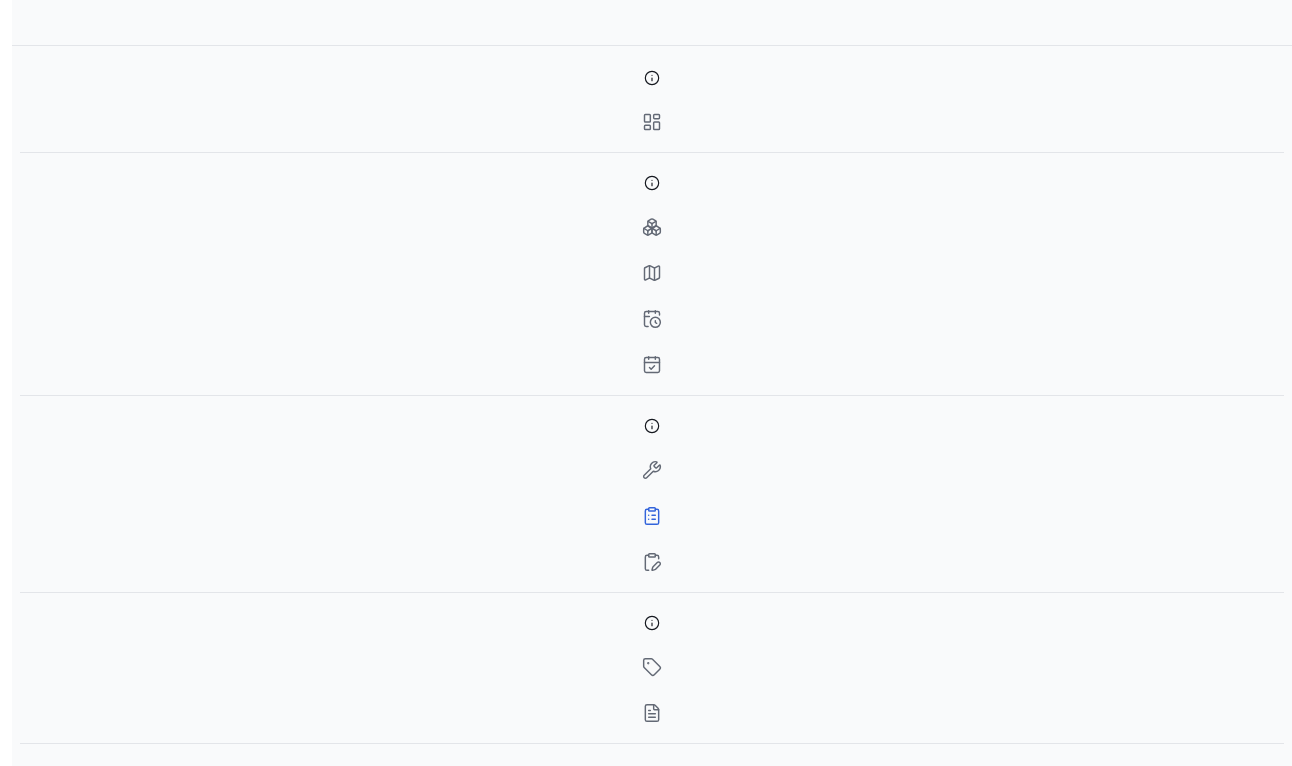
Test: module introductions › keeps section intros reachable in the collapsed rail
This screenshot has width=1292, height=766.
Click the link named "Sobre Reservas". click: (652, 182)
box: [644,174,660,190]
(page scrolled)
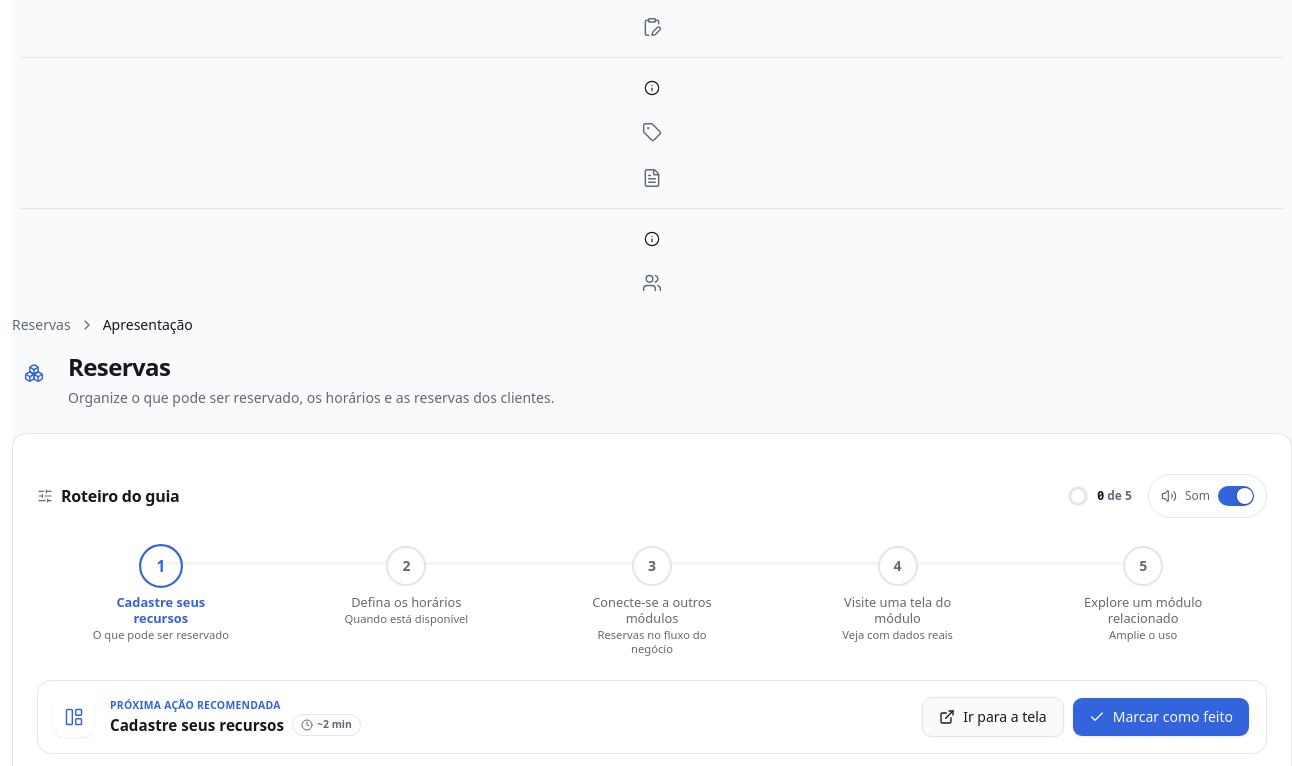
Expected: the heading "Reservas" is shown, [68,350,170,382]
